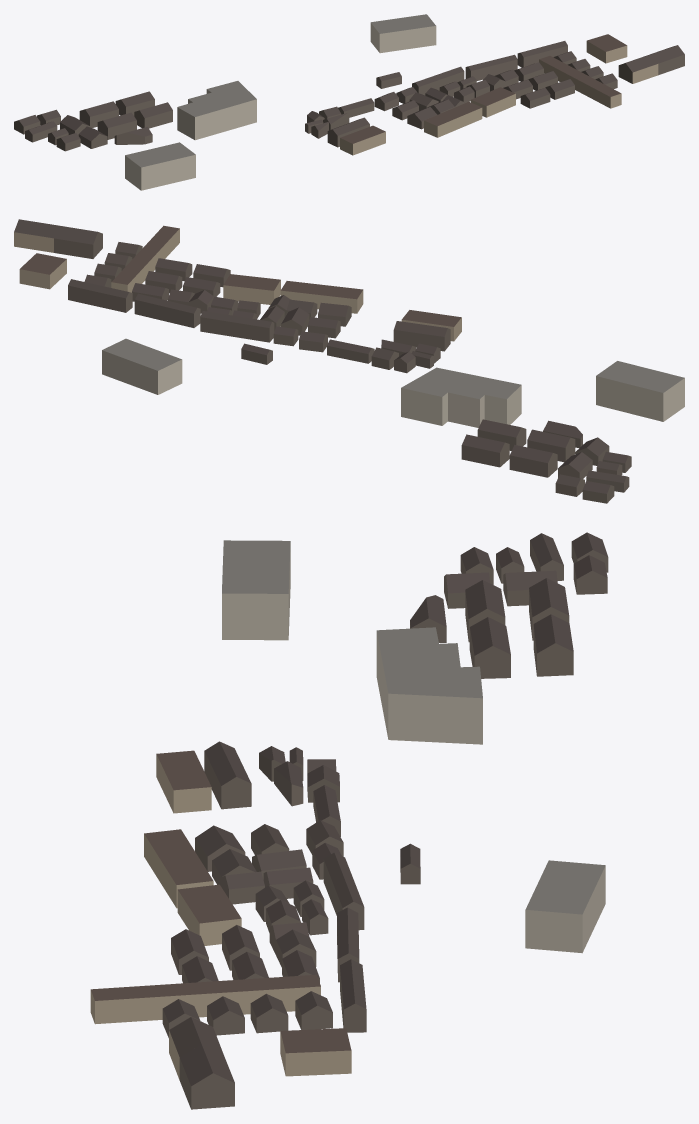
Rendered from tile_1_7.glb.
The picture shows the model from 3 angles, top to bottom: view 1: azimuth 30°, elevation 25°; view 2: azimuth 150°, elevation 25°; view 3: azimuth 270°, elevation 25°; orthographic projection. The views are drawn at different scales.
Visible parts, largest first — view 1: HP-w1200711935, HP-w442103686, HP-w494956478, HP-w859424221, HP-w859424257, HP-w859424240, HP-w449058936, HP-w859424258, HP-w859424274, HP-w1200711939, HP-w859424267, HP-w859424275 (+23 smaller); view 2: HP-w1200711935, HP-w442103686, HP-w494956478, HP-w859424221, HP-w859424267, HP-w859424257, HP-w859424274, HP-w859424258, HP-w859424275, HP-w449058936, HP-w449058937, HP-w859424241 (+25 smaller); view 3: HP-w1200711935, HP-w442103686, HP-w859424221, HP-w494956478, HP-w449058936, HP-w859424257, HP-w449058938, HP-w859424240, HP-w859424258, HP-w859424241, HP-w1200711937, HP-w1200711939 (+26 smaller).
Boxes of the visible parts, x1,y1,x2,y2 form: HP-w1200711935: (177, 81, 256, 140); HP-w442103686: (125, 142, 195, 190); HP-w494956478: (370, 14, 436, 53); HP-w859424221: (539, 56, 621, 108); HP-w859424257: (424, 102, 482, 137); HP-w859424240: (340, 125, 385, 155); HP-w449058936: (586, 34, 627, 63); HP-w859424258: (471, 87, 515, 117); HP-w859424274: (465, 54, 517, 80); HP-w1200711939: (134, 102, 172, 128); HP-w859424267: (412, 66, 464, 95); HP-w859424275: (517, 41, 567, 67); HP-w1200711935: (401, 367, 521, 427); HP-w442103686: (596, 361, 684, 421); HP-w494956478: (102, 338, 182, 394); HP-w859424221: (111, 225, 179, 292); HP-w859424267: (200, 311, 274, 342); HP-w859424257: (280, 281, 363, 313); HP-w859424274: (134, 293, 200, 327); HP-w859424258: (223, 274, 280, 304); HP-w859424275: (68, 279, 132, 312); HP-w449058936: (19, 253, 66, 289); HP-w449058937: (54, 225, 102, 258); HP-w859424241: (393, 321, 450, 351); HP-w1200711935: (376, 627, 482, 744); HP-w442103686: (222, 540, 290, 640); HP-w859424221: (90, 974, 320, 1024); HP-w494956478: (525, 860, 605, 953); HP-w449058936: (280, 1028, 351, 1076); HP-w859424257: (144, 829, 213, 908); HP-w449058938: (179, 1044, 234, 1109); HP-w859424240: (156, 750, 211, 813); HP-w859424258: (177, 884, 241, 945); HP-w859424241: (204, 741, 251, 809); HP-w1200711937: (533, 614, 573, 676); HP-w1200711939: (469, 617, 510, 678).
Bounding box in the file's own units: 463 × 18 × 182.
